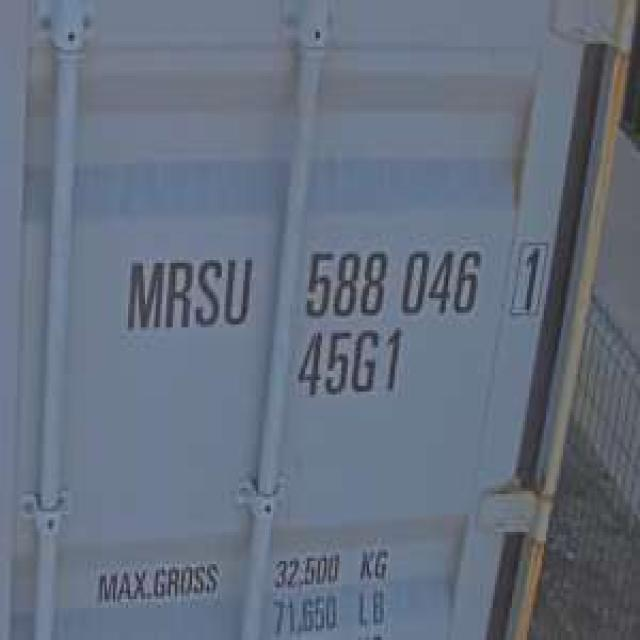dv: (506, 236, 550, 323)
owner: (118, 246, 255, 340)
serial: (302, 238, 487, 324)
size: (290, 326, 408, 400)
